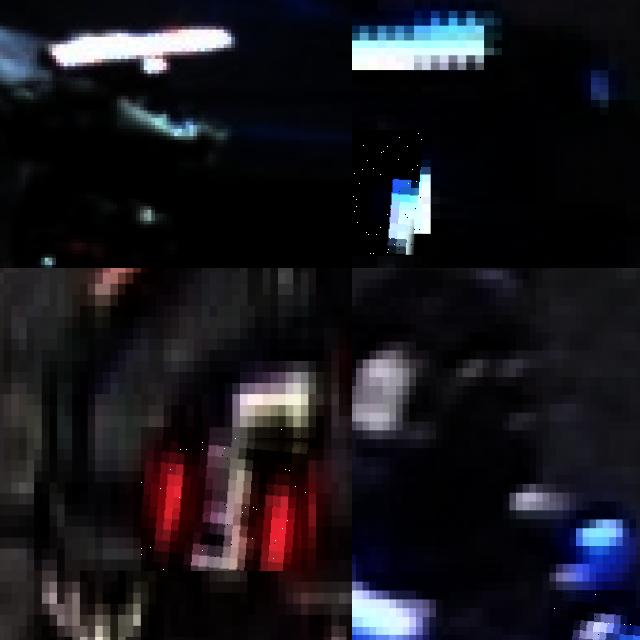B1: (352, 129, 422, 256)
B5: (549, 590, 640, 640)
R3: (141, 427, 308, 571)
